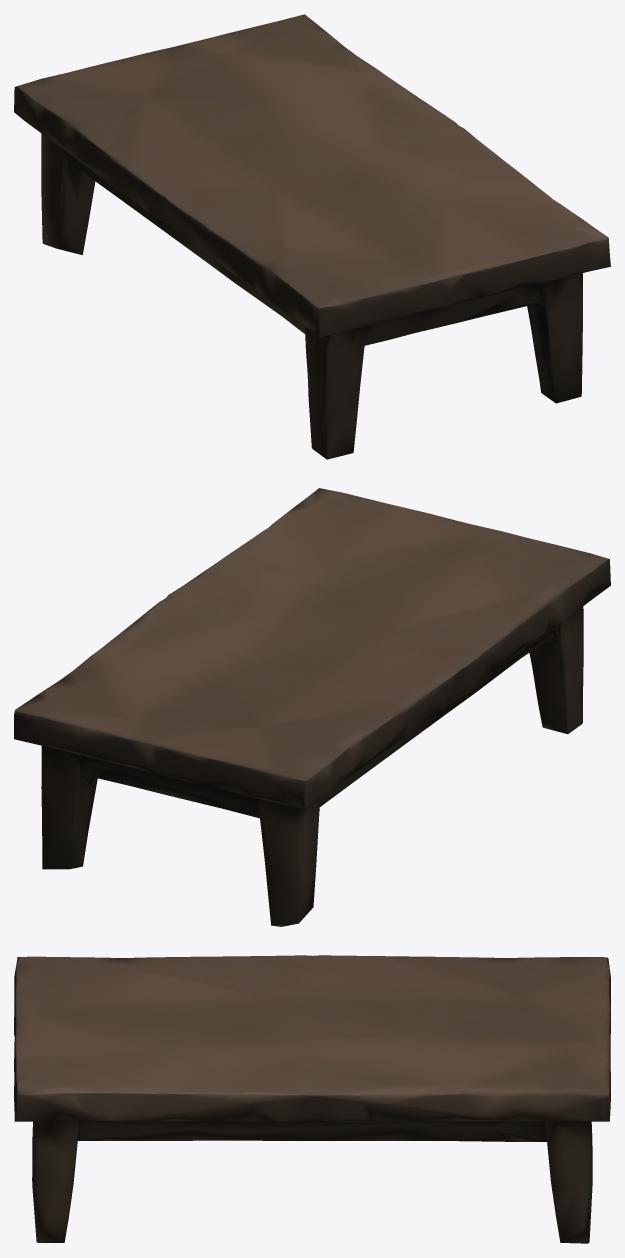
File: wooden+table+3d+model (1).glb
The picture shows the model from 3 angles, top to bottom: view 1: azimuth 30°, elevation 25°; view 2: azimuth 150°, elevation 25°; view 3: azimuth 270°, elevation 25°; orthographic projection. The views are drawn at different scales.
Visible parts, largest first — view 1: tripo_node_a557a27d-80b2-4938-a9b6-c8dc57eff880; view 2: tripo_node_a557a27d-80b2-4938-a9b6-c8dc57eff880; view 3: tripo_node_a557a27d-80b2-4938-a9b6-c8dc57eff880.
Part boxes in pixels (x1=…): tripo_node_a557a27d-80b2-4938-a9b6-c8dc57eff880: x1=14, y1=14, x2=610, y2=459; tripo_node_a557a27d-80b2-4938-a9b6-c8dc57eff880: x1=14, y1=488, x2=610, y2=926; tripo_node_a557a27d-80b2-4938-a9b6-c8dc57eff880: x1=14, y1=955, x2=610, y2=1243.
Bounding box in the file's own units: 0.5573 × 0.293 × 1.
1 material, 1 textured.
